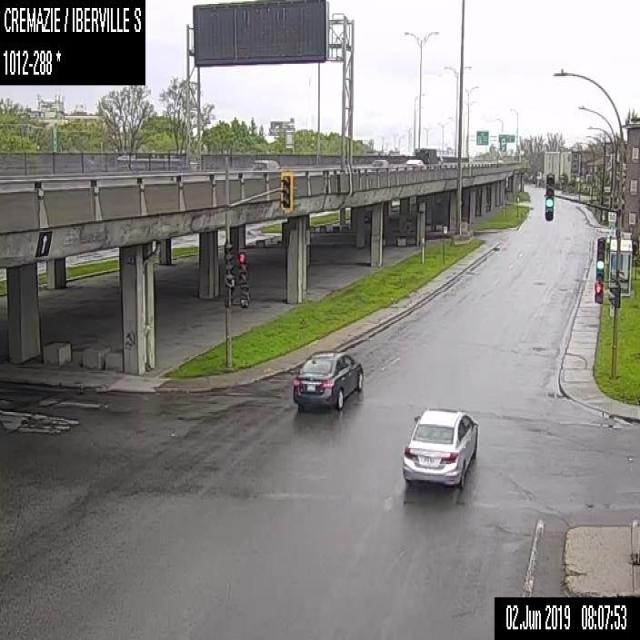vehicle: (401, 404, 478, 489), (291, 349, 364, 408), (414, 148, 442, 166), (252, 158, 279, 169), (404, 156, 426, 168), (371, 158, 388, 170)
